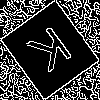K: (25, 25, 81, 82)
